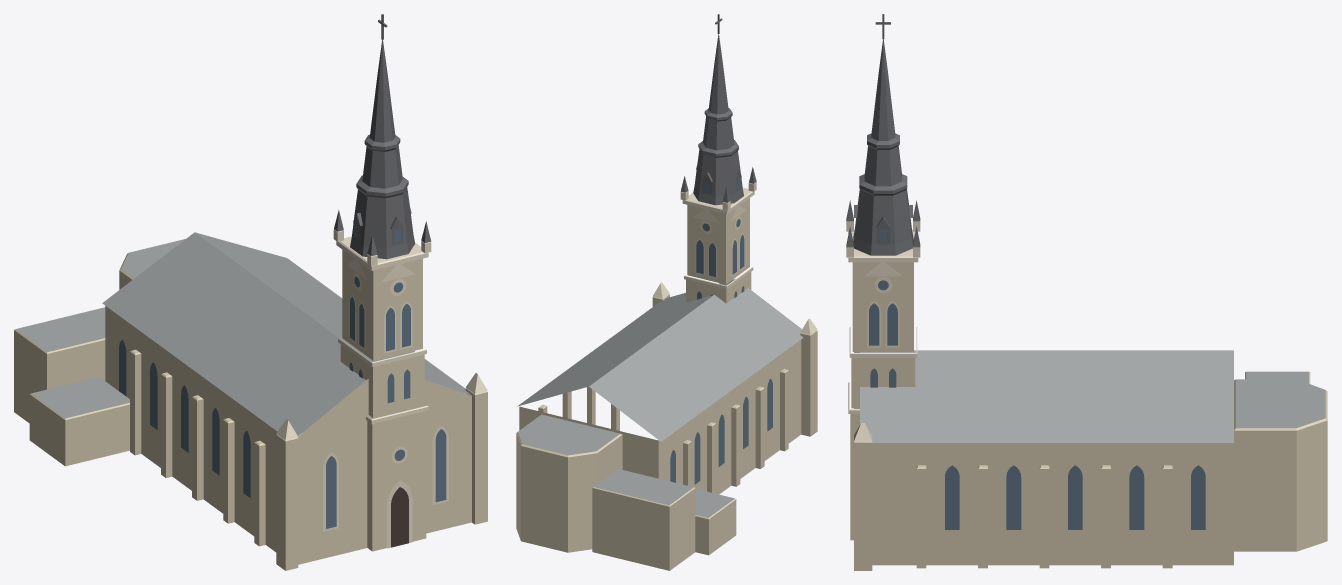
Rendered from sat-st-joseph-church.glb.
The picture shows the model from 3 angles, left to right: view 1: azimuth 30°, elevation 25°; view 2: azimuth 150°, elevation 25°; view 3: azimuth 270°, elevation 25°; orthographic projection. The views are drawn at different scales.
Visible parts, largest first — view 1: St. Joseph Catholic Church; view 2: St. Joseph Catholic Church; view 3: St. Joseph Catholic Church.
Boxes of the visible parts, <box> form: St. Joseph Catholic Church: <box>14,14,487,570</box>; St. Joseph Catholic Church: <box>516,14,817,570</box>; St. Joseph Catholic Church: <box>846,14,1327,570</box>.
Bounding box in the file's own units: 24.2 × 46 × 39.1.
